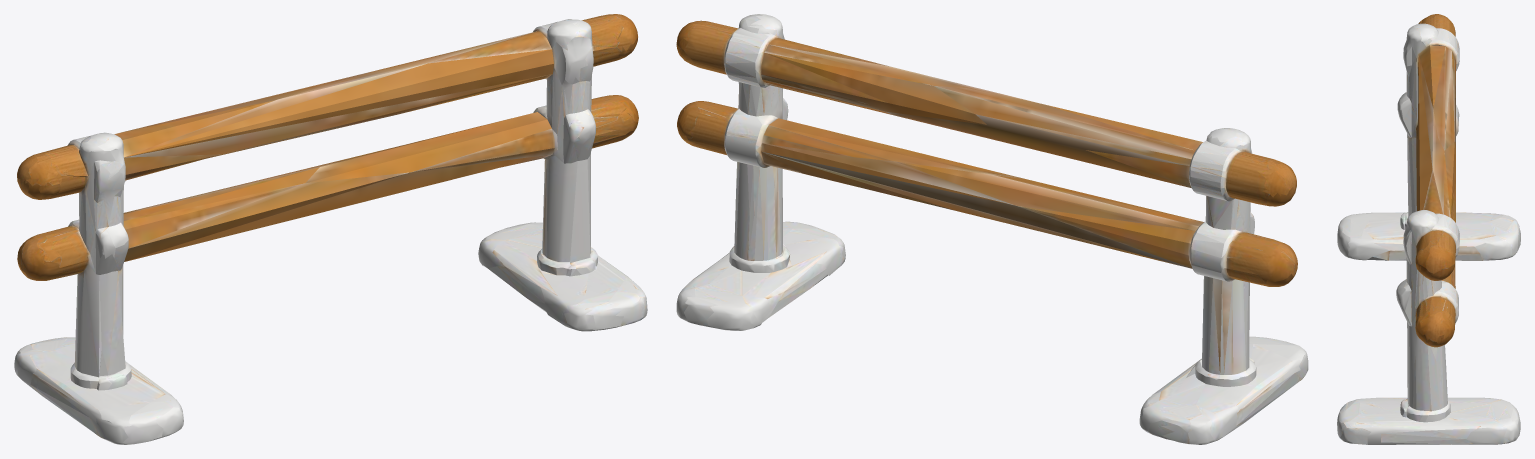
Rendered from ds-barre.glb.
3 views of the same model, side by side, from view 1: azimuth 30°, elevation 25°; view 2: azimuth 150°, elevation 25°; view 3: azimuth 270°, elevation 25° (orthographic). The views are drawn at different scales.
Size of the model in its own units: 1.9 by 0.7883 by 0.6034.
1 material, 1 textured.
